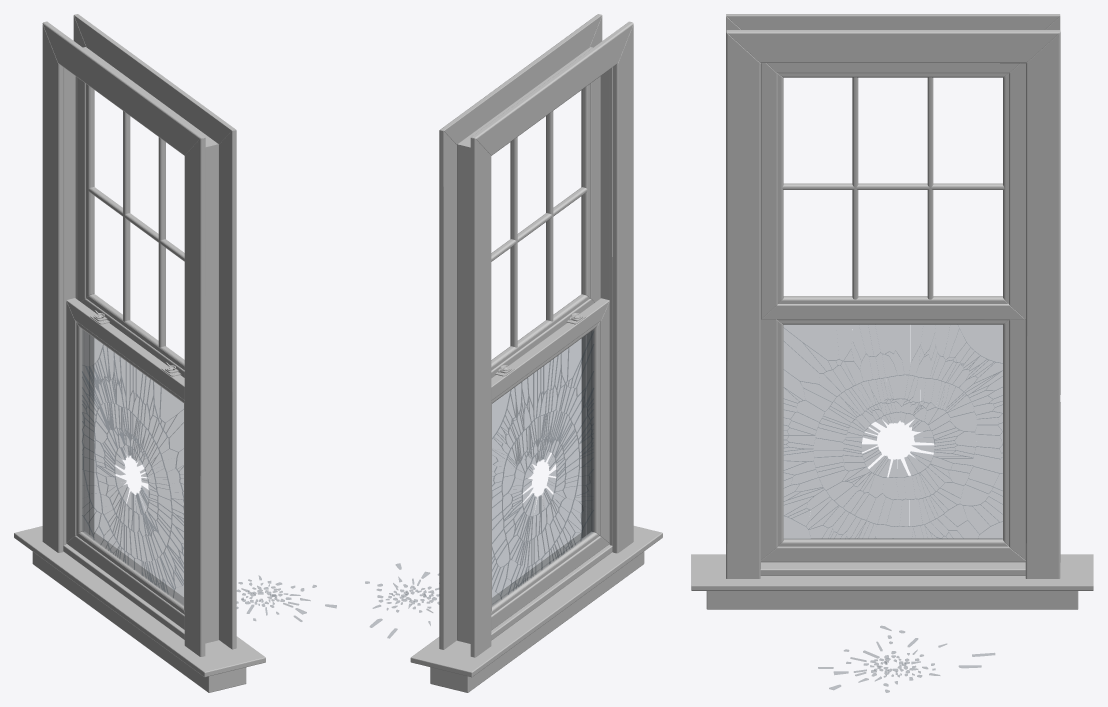
File: Trace-Evidence-Glass.obj
3 views of the same model, side by side, from view 1: azimuth 30°, elevation 25°; view 2: azimuth 150°, elevation 25°; view 3: azimuth 270°, elevation 25° (orthographic). The views are drawn at different scales.
Parts seen in each view (by area): view 1: Double_Hung_Window, Plane_cell.746_Mesh.1009, Plane_cell.780_Mesh.1043; view 2: Double_Hung_Window, Plane_cell.746_Mesh.1009, Plane_cell.780_Mesh.1043; view 3: Double_Hung_Window, Plane_cell.746_Mesh.1009, Plane_cell.780_Mesh.1043, Plane_cell.719_Mesh.982.
Part boxes in pixels (box(x1,y1,x2,y2)): Double_Hung_Window: box(14, 14, 265, 692); Plane_cell.746_Mesh.1009: box(159, 387, 183, 422); Plane_cell.780_Mesh.1043: box(82, 329, 102, 365); Double_Hung_Window: box(410, 14, 662, 692); Plane_cell.746_Mesh.1009: box(567, 330, 593, 380); Plane_cell.780_Mesh.1043: box(492, 390, 510, 438); Double_Hung_Window: box(691, 14, 1093, 609); Plane_cell.746_Mesh.1009: box(784, 325, 838, 360); Plane_cell.780_Mesh.1043: box(958, 325, 1002, 363); Plane_cell.719_Mesh.982: box(784, 341, 819, 384).
Bounding box in the file's own units: 4.9 × 12.59 × 7.91.
